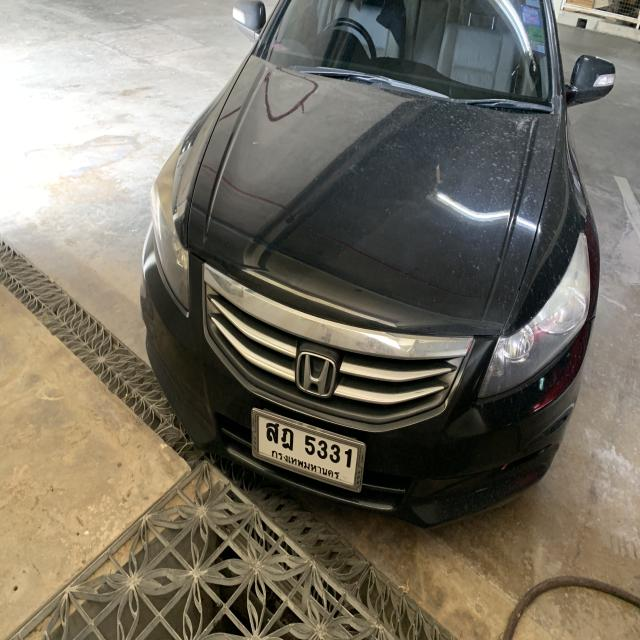license_plate: (251, 401, 366, 497)
